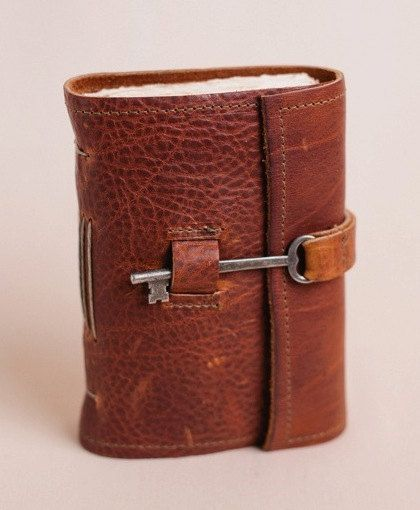cuero: (64, 64, 356, 459)
